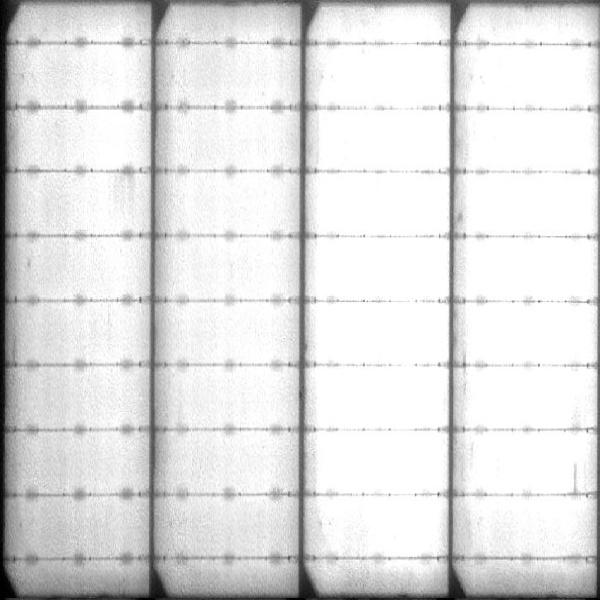hot_spot: (326, 175, 445, 232), (319, 241, 440, 296), (320, 434, 441, 488), (320, 52, 442, 103), (313, 311, 442, 359), (325, 115, 445, 166), (320, 375, 442, 423), (474, 177, 590, 226), (475, 50, 580, 104), (473, 373, 588, 422), (468, 311, 588, 357), (333, 501, 438, 553), (486, 498, 587, 551), (480, 116, 587, 165), (475, 247, 582, 292), (480, 441, 569, 487)
